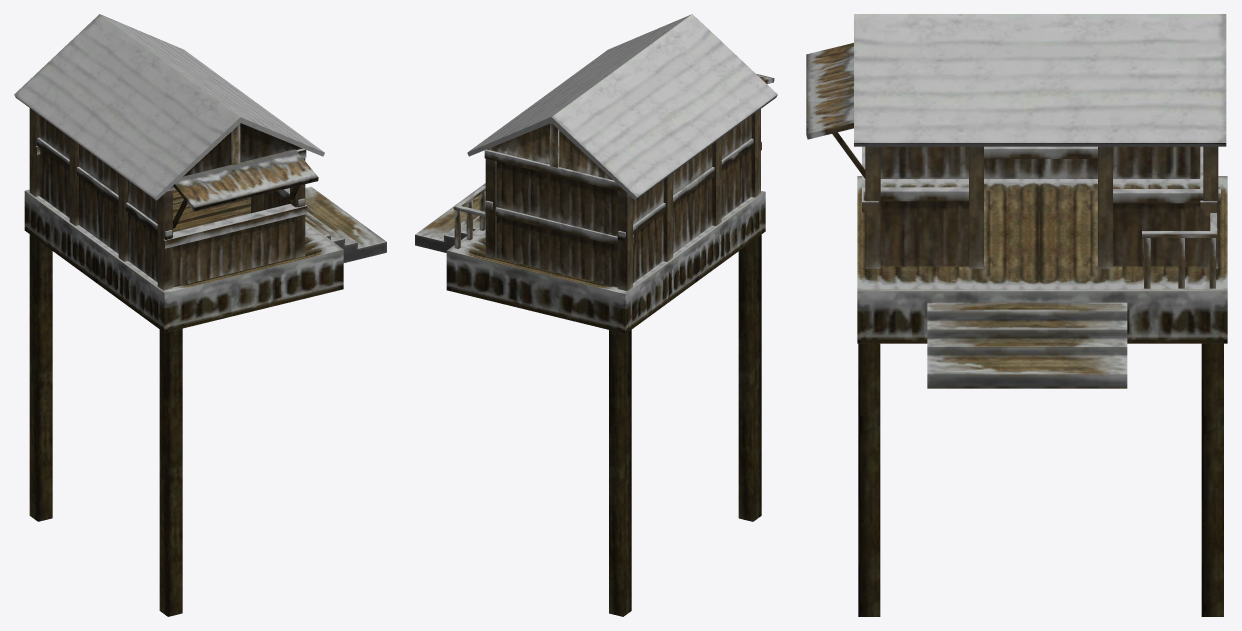
Rendered from nsm-general_obj_01_1.fbx.
3 views of the same model, side by side, from view 1: azimuth 30°, elevation 25°; view 2: azimuth 150°, elevation 25°; view 3: azimuth 270°, elevation 25° (orthographic). The views are drawn at different scales.
Parts seen in each view (by area): view 1: Sphere01; view 2: Sphere01; view 3: Sphere01.
Part boxes in pixels (x1,y1,x2,y2): Sphere01: (14,14,386,616); Sphere01: (415,14,777,616); Sphere01: (806,14,1227,616).
Size of the model in its own units: 7.93 by 14.11 by 8.43.
